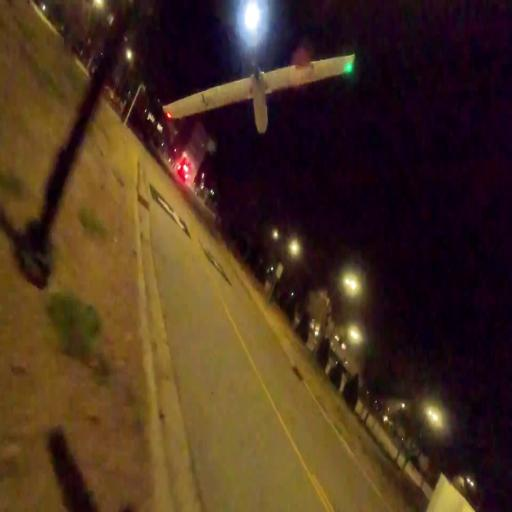uav: (156, 0, 362, 137)
